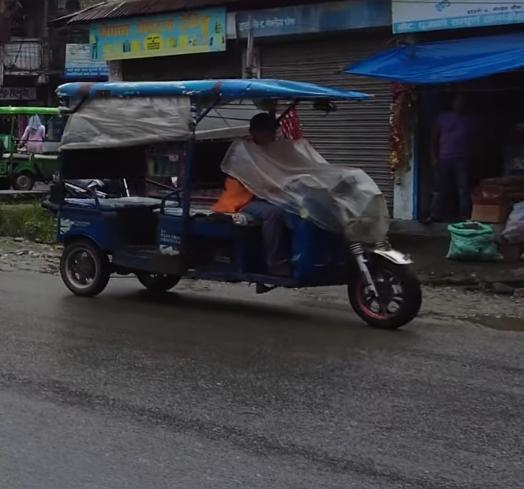e-rickshaw: (54, 69, 432, 334), (0, 104, 66, 194)
